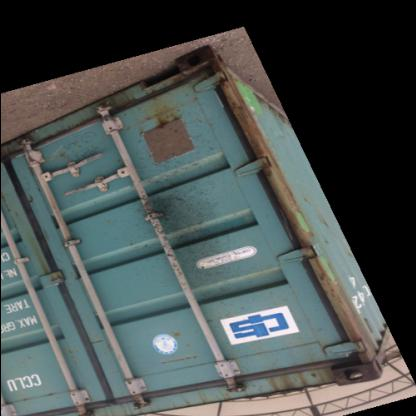Damage: (146, 178, 224, 322), (242, 356, 378, 406), (130, 96, 194, 183)
